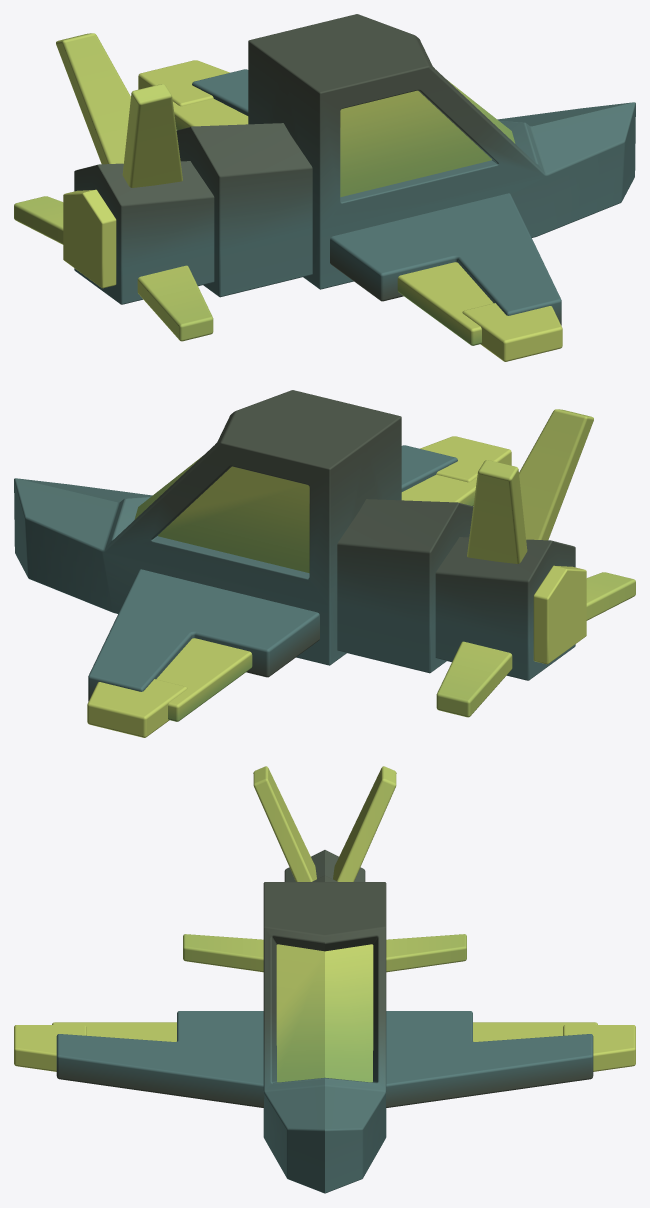
Rendered from enemy_gunship.glb.
The picture shows the model from 3 angles, top to bottom: view 1: azimuth 30°, elevation 25°; view 2: azimuth 150°, elevation 25°; view 3: azimuth 270°, elevation 25°; orthographic projection. The views are drawn at different scales.
Visible parts, largest first — view 1: Cube.100, Cube.101, Cube.103, Cube.104, Cube.106, Cube.105, Cube.107; view 2: Cube.100, Cube.101, Cube.103, Cube.104, Cube.106, Cube.105, Cube.107; view 3: Cube.100, Cube.101, Cube.106, Cube.105, Cube.104.
Part boxes in pixels (bbox=[...]): Cube.100: bbox=[248, 14, 635, 289]; Cube.101: bbox=[138, 60, 562, 361]; Cube.103: bbox=[176, 123, 312, 297]; Cube.104: bbox=[74, 161, 214, 304]; Cube.106: bbox=[56, 33, 182, 187]; Cube.105: bbox=[14, 196, 213, 341]; Cube.107: bbox=[63, 189, 116, 288]; Cube.100: bbox=[14, 390, 401, 665]; Cube.101: bbox=[87, 436, 511, 737]; Cube.103: bbox=[337, 499, 473, 673]; Cube.104: bbox=[435, 537, 575, 680]; Cube.106: bbox=[467, 409, 593, 563]; Cube.105: bbox=[436, 572, 635, 717]; Cube.107: bbox=[533, 565, 586, 664]; Cube.100: bbox=[263, 882, 386, 1193]; Cube.101: bbox=[14, 1011, 635, 1107]; Cube.106: bbox=[253, 766, 396, 881]; Cube.105: bbox=[183, 934, 466, 972]; Cube.104: bbox=[284, 850, 365, 881].
Bounding box in the file's own units: 10.85 × 4.55 × 12.45.
Materials: 1 (1 with a texture image).
